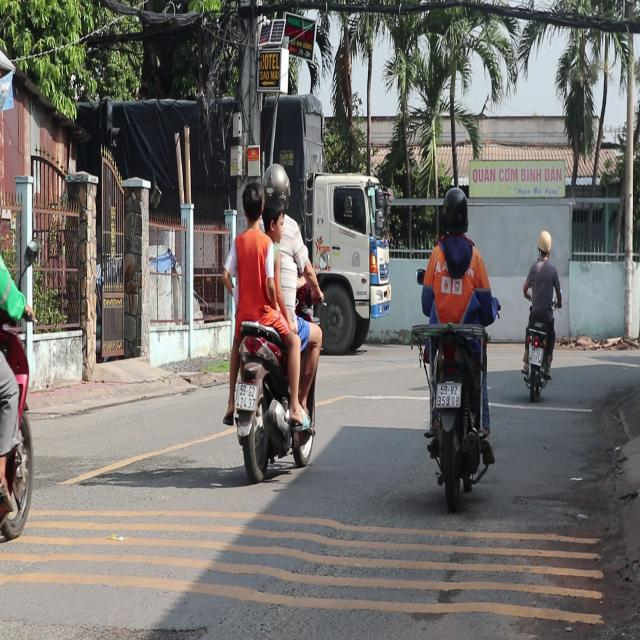helmet: (260, 161, 290, 212), (441, 185, 468, 236)
licenseplate: (220, 163, 323, 482), (410, 183, 498, 502)
motorcyclist: (239, 178, 264, 229), (261, 195, 284, 249)
nohelmet: (436, 382, 461, 407), (235, 382, 257, 410)
